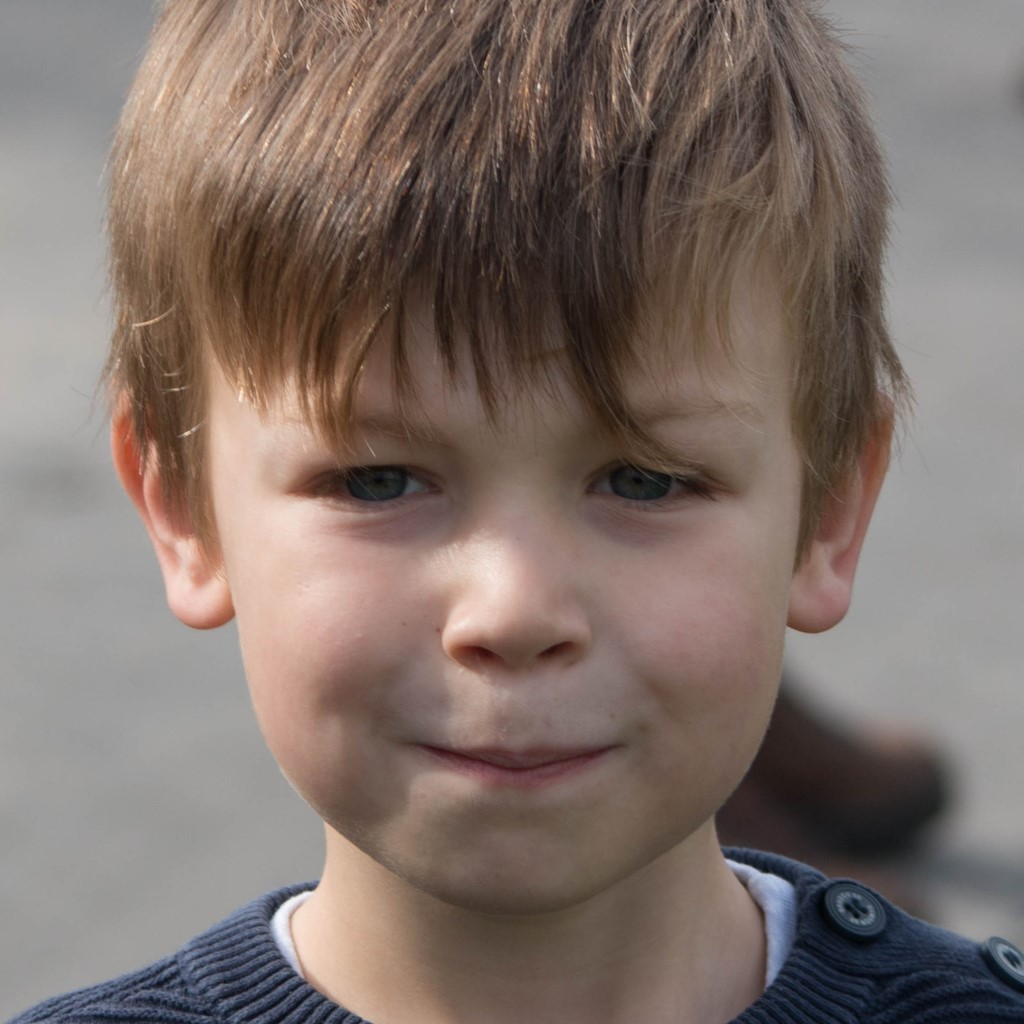sin_mascara: (209, 87, 804, 887)
